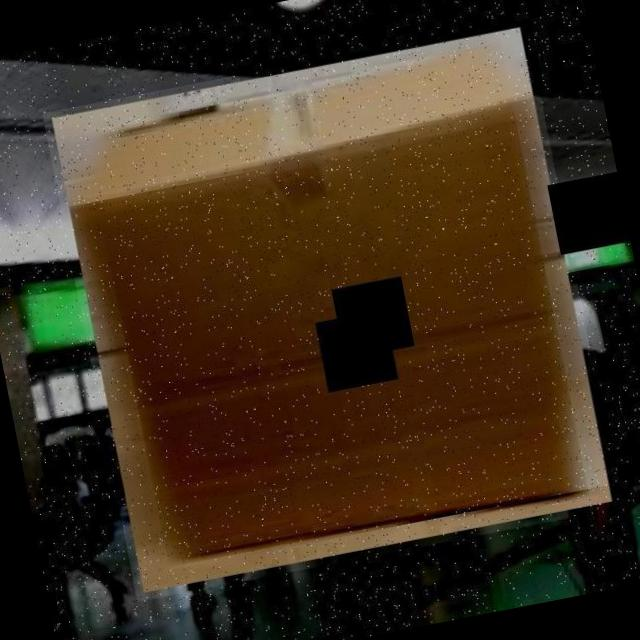box: (42, 19, 621, 602)
